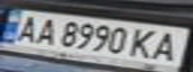0: (106, 24, 133, 56)
8: (54, 18, 81, 50)
9: (72, 20, 96, 52), (90, 21, 112, 54)
A: (148, 29, 187, 63), (6, 12, 45, 44), (27, 16, 60, 46)
K: (124, 26, 163, 61)
